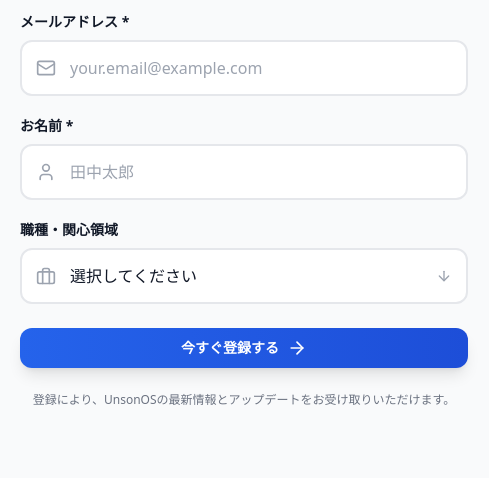
Test case: WaitlistForm Component › should show validation errors for empty required fields
The width and height of the screenshot is (489, 478).
What coordinates should you click on to do the following:
click the button "今すぐ登録する"
I would click on:
 (244, 348)
Its box is left=20, top=328, right=468, bottom=368.
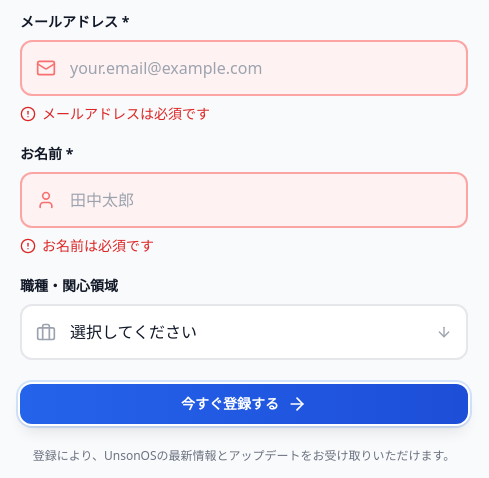
Result: the text "メールアドレスは必須です" is shown at left=20, top=104, right=210, bottom=123
Result: the text "お名前は必須です" is shown at left=20, top=236, right=154, bottom=255
